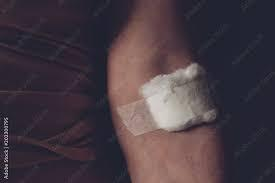Bandage: (118, 63, 216, 134)
cotton: (140, 63, 216, 130)
